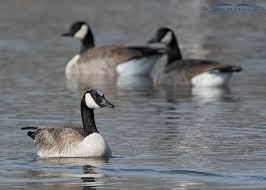goose: (18, 88, 116, 160), (59, 20, 159, 82), (149, 24, 242, 87)
